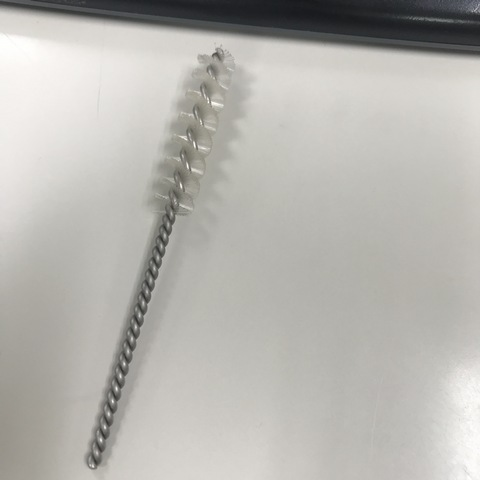Twist Brush-B: (84, 40, 243, 471)
